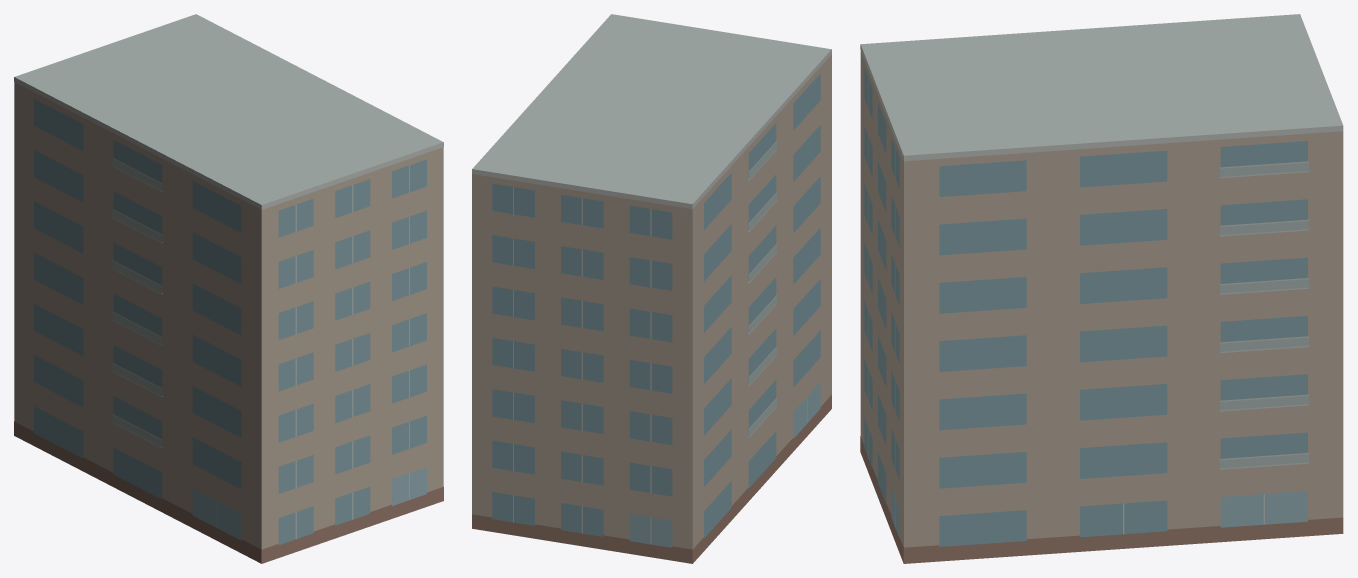
The model's file is survey-upis-32743936.glb.
3 views of the same model, side by side, from view 1: azimuth 30°, elevation 25°; view 2: azimuth 150°, elevation 25°; view 3: azimuth 270°, elevation 25° (orthographic). The views are drawn at different scales.
Parts seen in each view (by area): view 1: survey-upis-32743936.tmp; view 2: survey-upis-32743936.tmp; view 3: survey-upis-32743936.tmp.
Boxes of the visible parts, x1,y1,x2,y2 form: survey-upis-32743936.tmp: (14,14,443,563); survey-upis-32743936.tmp: (472,14,831,563); survey-upis-32743936.tmp: (860,14,1343,563).
Bounding box in the file's own units: 13.42 × 18 × 19.31.
